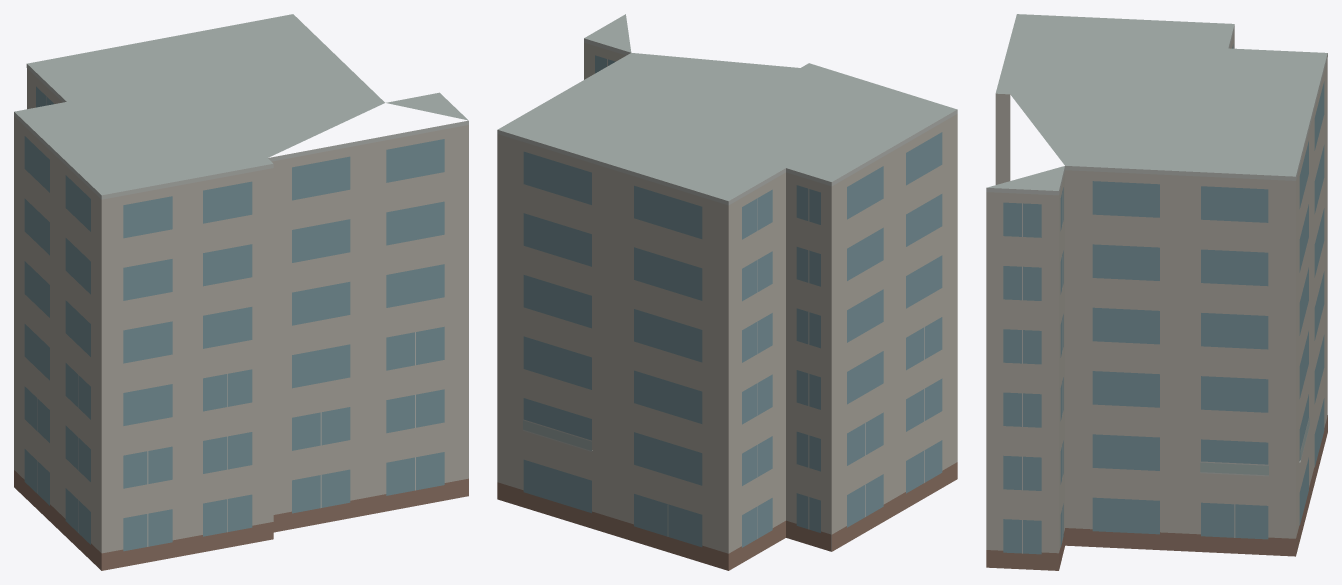
The model's file is survey-upis-32772030.glb.
The picture shows the model from 3 angles, left to right: view 1: azimuth 30°, elevation 25°; view 2: azimuth 150°, elevation 25°; view 3: azimuth 270°, elevation 25°; orthographic projection. The views are drawn at different scales.
Visible parts, largest first — view 1: survey-upis-32772030.tmp; view 2: survey-upis-32772030.tmp; view 3: survey-upis-32772030.tmp.
Boxes of the visible parts, bbox=[...] form: survey-upis-32772030.tmp: bbox=[14, 14, 468, 570]; survey-upis-32772030.tmp: bbox=[497, 14, 957, 570]; survey-upis-32772030.tmp: bbox=[986, 14, 1327, 570].
Bounding box in the file's own units: 21.25 × 21.25 × 17.32.
